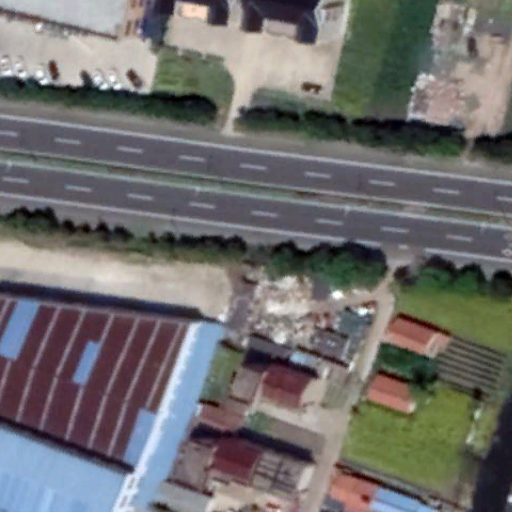msw: (253, 278, 338, 347)
